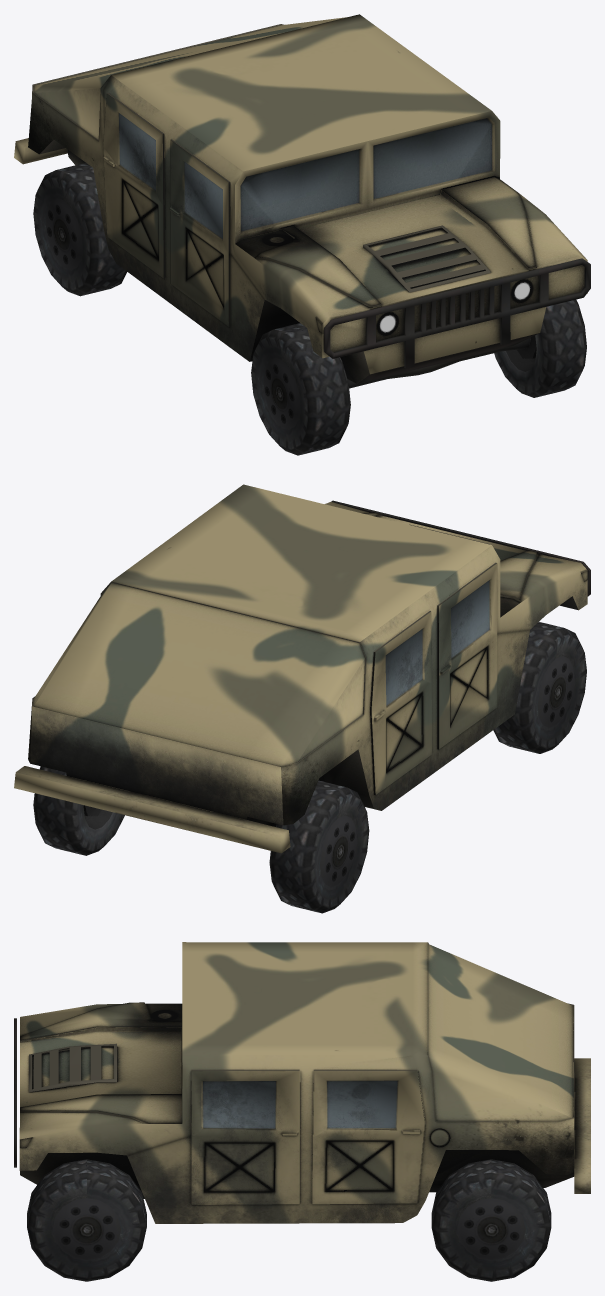
The model's file is humvee.fbx.
3 renders of one model, top to bottom at view 1: azimuth 30°, elevation 25°; view 2: azimuth 150°, elevation 25°; view 3: azimuth 270°, elevation 25°, orthographic. The views are drawn at different scales.
Parts seen in each view (by area): view 1: car, frontRightW, rearRightW, frontBumper, frontLeftW, grill, frontAxle, rearBumper; view 2: car, rearRightW, frontRightW, rearBumper, rearLeftW, frontBumper; view 3: car, rearLeftW, frontLeftW, rearBumper, grill, frontBumper.
Part boxes in pixels (left/top/right/bottom): car: left=28, top=14, right=587, bottom=383; frontRightW: left=251, top=323, right=350, bottom=455; rearRightW: left=33, top=163, right=126, bottom=296; frontBumper: left=324, top=258, right=590, bottom=368; frontLeftW: left=494, top=299, right=586, bottom=397; grill: left=363, top=225, right=490, bottom=292; frontAxle: left=347, top=335, right=536, bottom=388; rearBumper: left=14, top=138, right=67, bottom=164; car: left=28, top=484, right=587, bottom=826; rearRightW: left=269, top=780, right=369, bottom=913; frontRightW: left=493, top=622, right=586, bottom=753; rearBumper: left=14, top=766, right=290, bottom=853; rearLeftW: left=33, top=766, right=124, bottom=855; frontBumper: left=331, top=500, right=590, bottom=596; car: left=19, top=942, right=574, bottom=1223; rearLeftW: left=431, top=1159, right=551, bottom=1281; frontLeftW: left=27, top=1159, right=146, bottom=1281; rearBumper: left=574, top=1058, right=590, bottom=1193; grill: left=29, top=1043, right=116, bottom=1092; frontBumper: left=14, top=1018, right=16, bottom=1167.
Bounding box in the file's own units: 199 × 164 × 385.
Materials: 10 (9 with a texture image).
